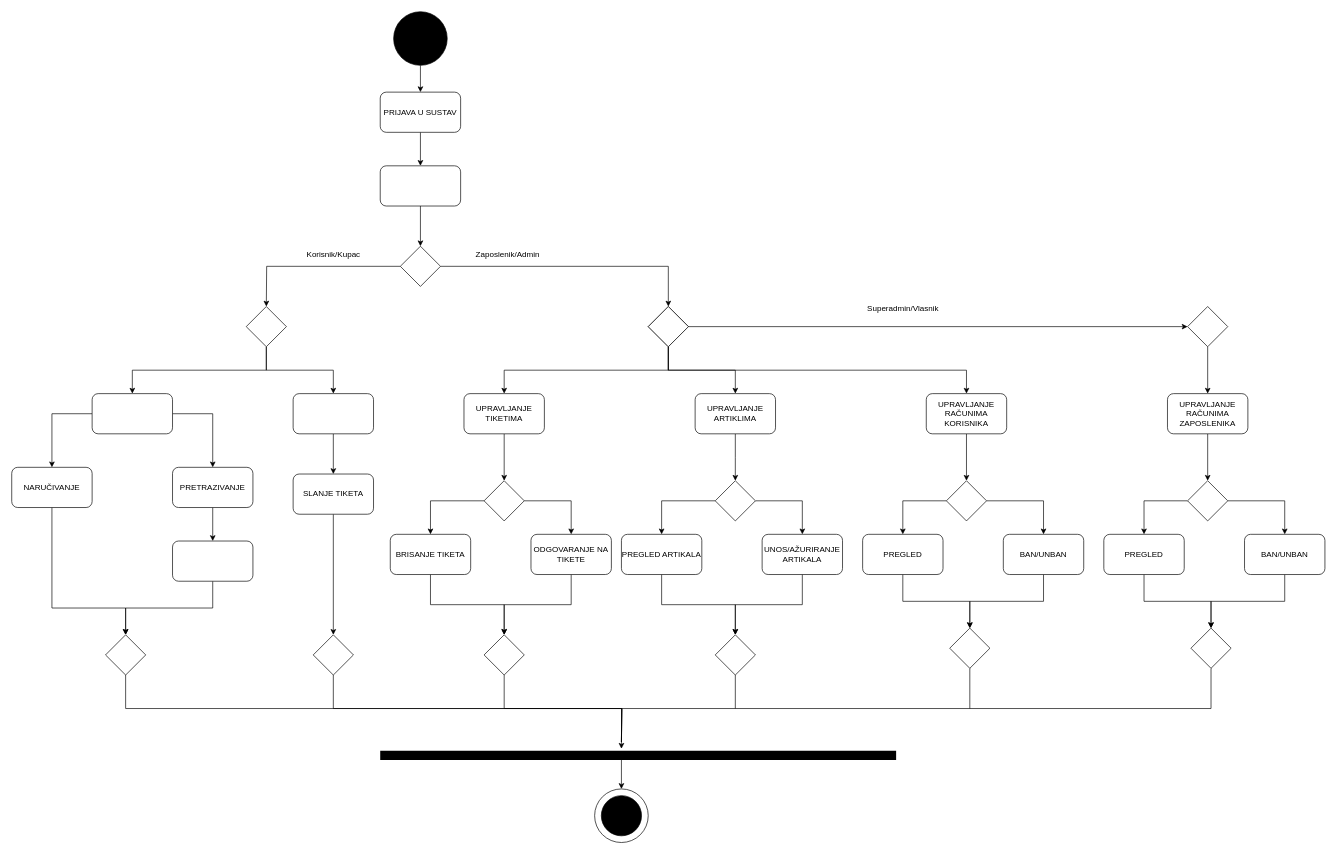
Some shapes in this 1337 by 854 pixel diagram are drawn without their labels. Here are the shapes that lost their labels. From the top down, the box of each, then its label:
(380, 165, 461, 206): ODREDI KORISNIKA
(91, 393, 173, 434): INTERAKCIJA S ARTKLOM
(292, 393, 374, 434): KONTANKTIRANJE
(172, 540, 253, 581): SORTIRANJE
